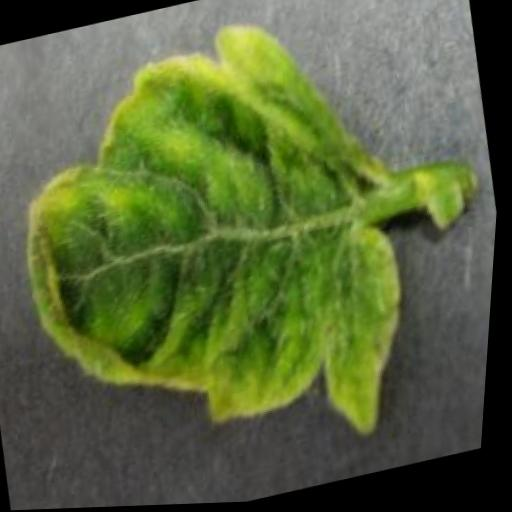Yellow Leaf Curl Virus: (0, 0, 449, 511)
